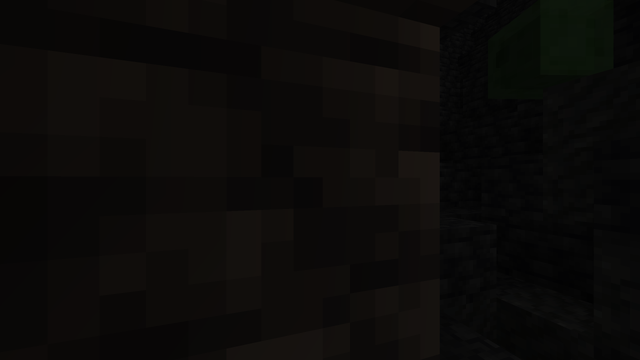slimes: (485, 0, 609, 101)
